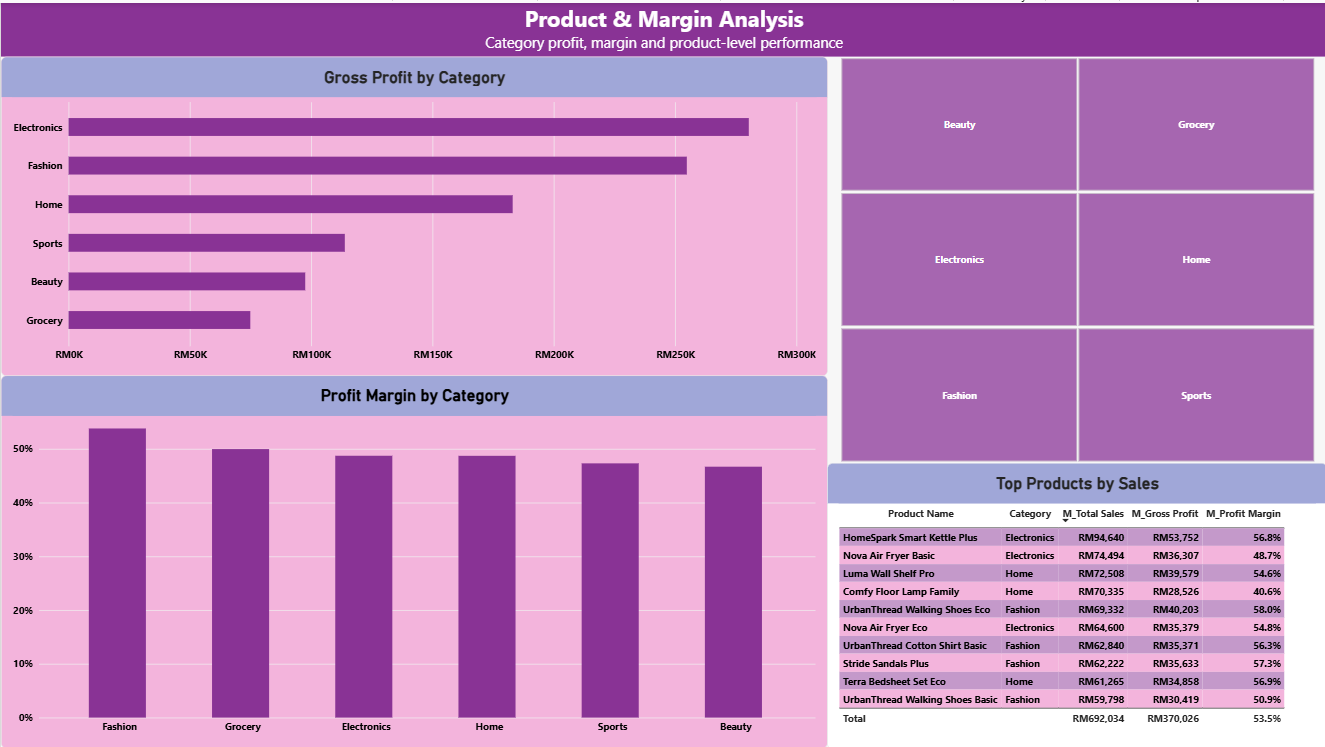

The page's visual inventory and layout, read from the dashboard file:
{"tool":"powerbi","page":{"name":"Product & Margin","canvas":[1920,1080],"ordinal":1},"visuals":[{"type":"textbox","box":[10.3,0,1910.1,78.2],"z":0},{"type":"clusteredBarChart","title":"Gross Profit by Category","fields":{"Category":["dimProduct.Category"],"Y":["factSales.M_Gross Profit"]},"box":[0,77.8,1196.8,462.3],"z":1000},{"type":"clusteredColumnChart","title":"Profit Margin by Category","fields":{"Category":["dimProduct.Category"],"Y":["factSales.M_Profit Margin"]},"box":[0,540.1,1196.8,540.1],"z":2000},{"type":"tableEx","title":"Top Products by Sales","fields":{"Values":["dimProduct.Product Name","dimProduct.Category","factSales.M_Total Sales","factSales.M_Gross Profit","factSales.M_Profit Margin"]},"box":[1196.8,665.3,723.7,414.8],"z":2001},{"type":"slicer","title":"Category","fields":{"Values":["dimProduct.Category"]},"box":[1196.8,77.8,723.7,587.6],"z":2002}]}

Visuals, with their boxes in screenshot pixels (x1, y1, x2, y2), scaled from the page's 1920x1080 canvas onto the 1325x747 screenshot:
textbox: (left=7, top=0, right=1324, bottom=54)
"Gross Profit by Category" clusteredBarChart: (left=0, top=54, right=826, bottom=374)
"Profit Margin by Category" clusteredColumnChart: (left=0, top=374, right=826, bottom=746)
"Top Products by Sales" tableEx: (left=826, top=460, right=1324, bottom=746)
"Category" slicer: (left=826, top=54, right=1324, bottom=460)
